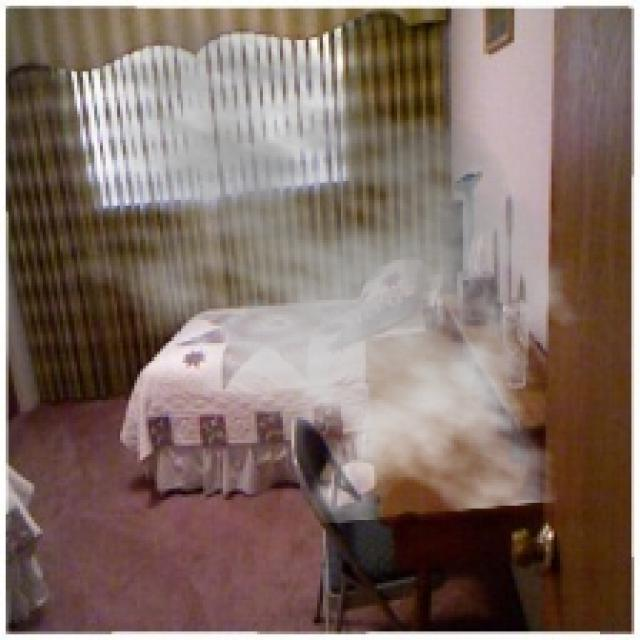Smoke: (29, 6, 598, 526)
